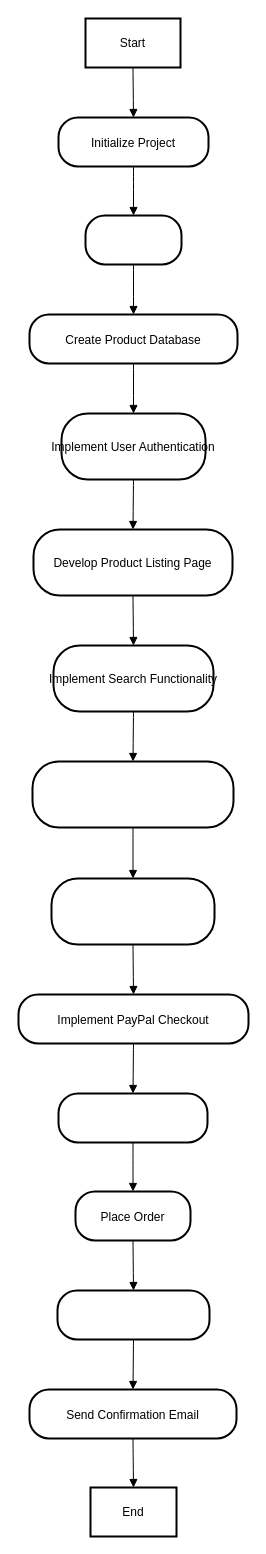
Some shapes in this 266 by 1554 pixel diagram are drawn without their labels. The shapes that lost their labels are listed below. From the top down, each one's centre as x and y in pixels, then its label:
At point 133,239: "Design UI".
At point 132,794: "Develop Product Details Page".
At point 132,911: "Add Shopping Cart Functionality".
At point 132,1117: "Process Payment".
At point 133,1314: "Generate Invoice".
